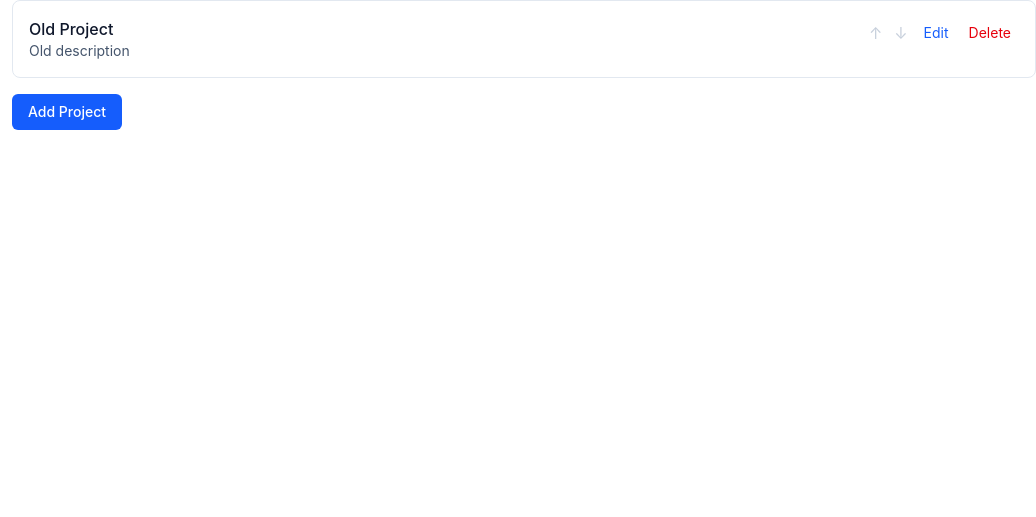
Test: ProjectSection › edits an existing project
Click the button "Edit".
click(936, 33)  # box [916, 19, 957, 47]
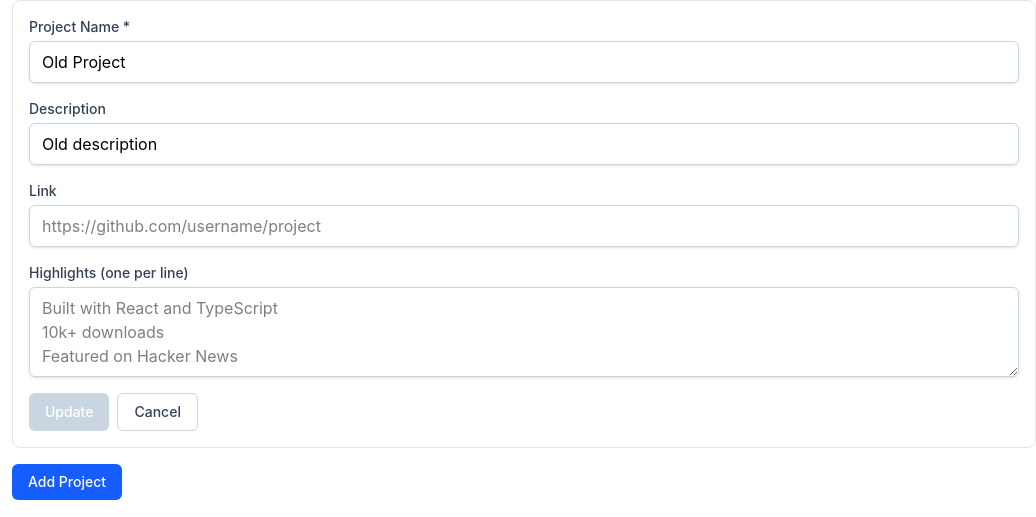
Replace the text in the field labelled "Project Name *" with "New Project" at (524, 62), box [29, 41, 1019, 83]
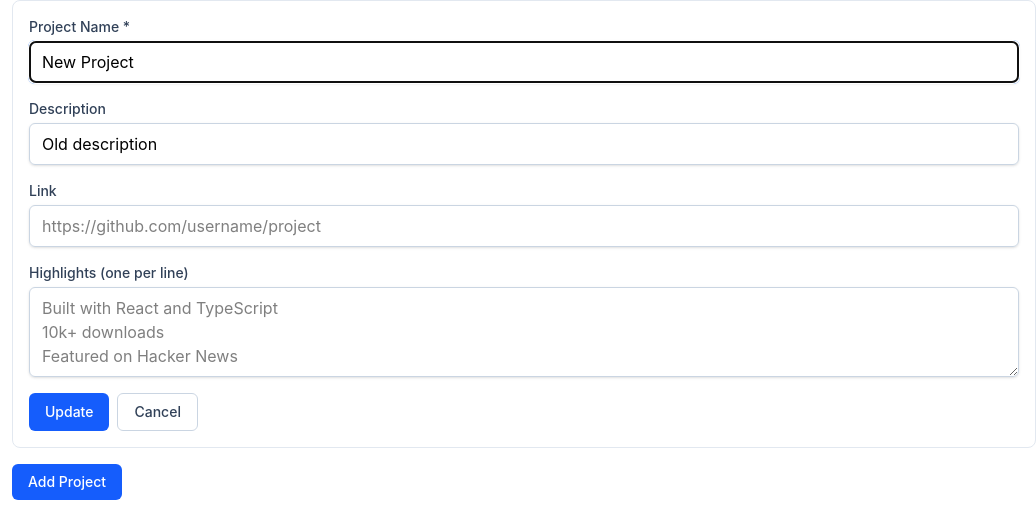
Click the button "Update".
click(69, 412)  # box [29, 393, 110, 431]
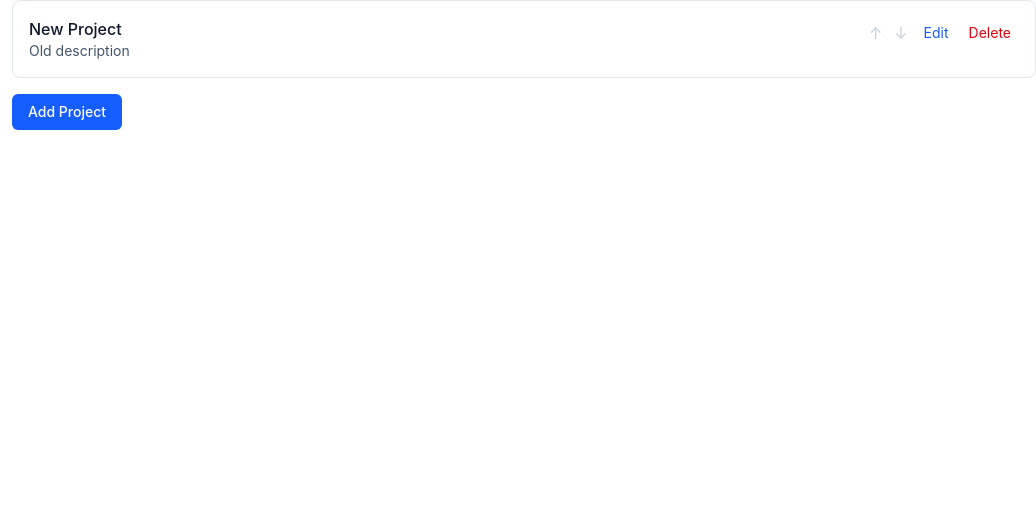
Expected: the heading "Old Project" is not shown
Result: the heading "New Project" is shown at [29, 19, 122, 39]
